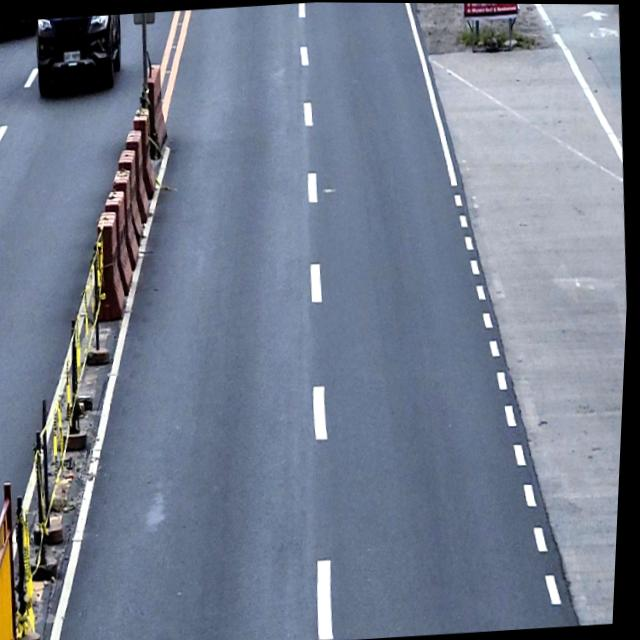Car: (32, 13, 129, 97)
License-Plate: (61, 50, 83, 64)
